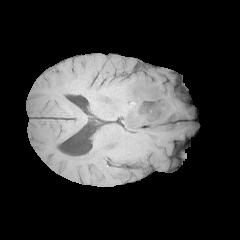glioma: (123, 76, 174, 130)
